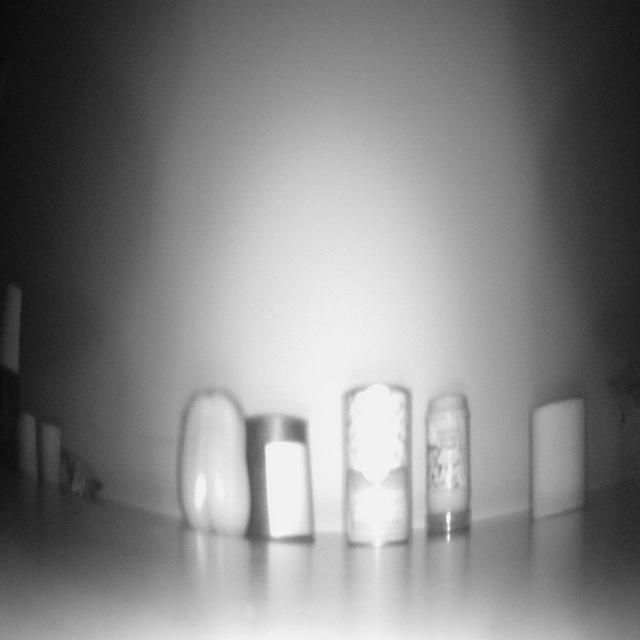targets: (175, 396, 255, 532), (348, 381, 408, 548), (250, 411, 311, 546), (526, 400, 588, 521), (426, 387, 472, 547), (46, 440, 104, 514), (608, 364, 640, 486), (0, 283, 35, 379), (16, 408, 40, 491), (38, 416, 65, 488)
